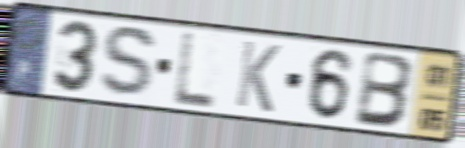3: (52, 17, 99, 95)
6: (306, 46, 354, 123)
B: (352, 49, 417, 131)
K: (233, 38, 283, 116)
L: (171, 29, 218, 111)
S: (96, 23, 162, 102)
